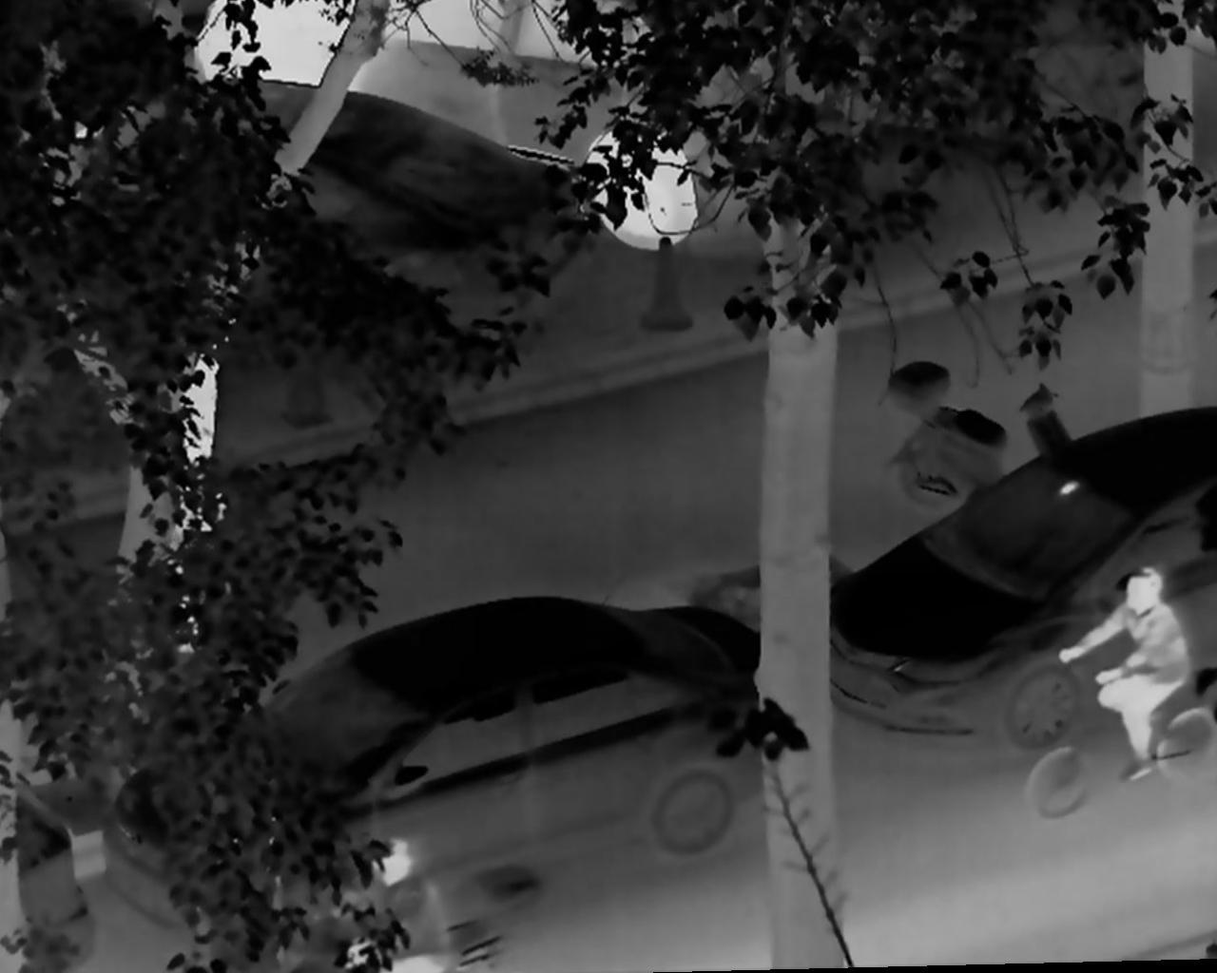person: (1063, 555, 1192, 787), (322, 832, 463, 973), (171, 295, 236, 526), (150, 518, 236, 664)
